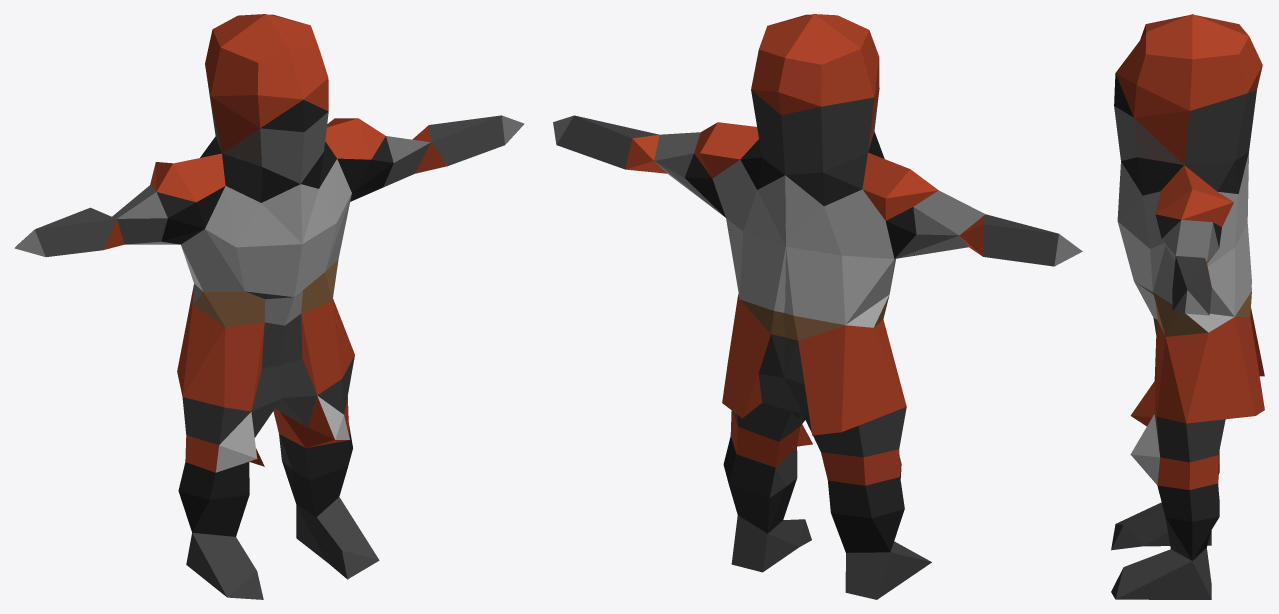
The model's file is RedArmyLoL.fbx.
3 views of the same model, side by side, from view 1: azimuth 30°, elevation 25°; view 2: azimuth 150°, elevation 25°; view 3: azimuth 270°, elevation 25° (orthographic). The views are drawn at different scales.
Visible parts, largest first — view 1: Cylinder.001; view 2: Cylinder.001; view 3: Cylinder.001.
Boxes of the visible parts, bbox=[...] form: Cylinder.001: bbox=[14, 14, 524, 599]; Cylinder.001: bbox=[553, 14, 1082, 599]; Cylinder.001: bbox=[1111, 14, 1264, 599].
Bounding box in the file's own units: 413 × 422 × 106.
1 material, 1 textured.
